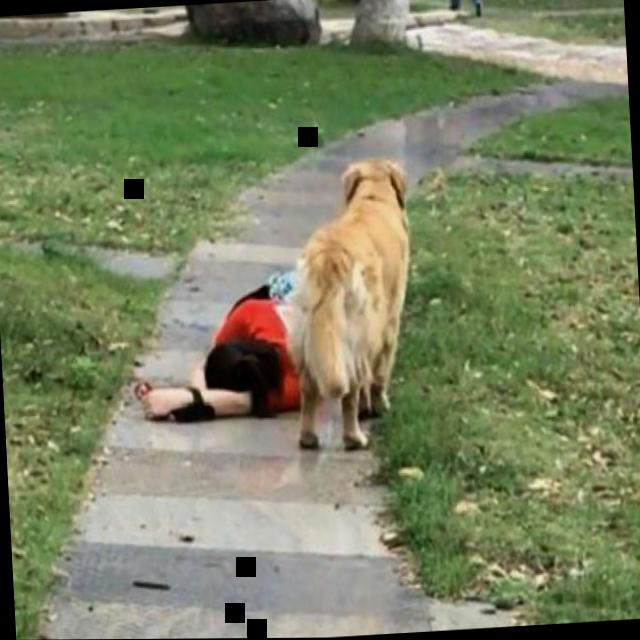Fall-Detected: (126, 261, 326, 436)
